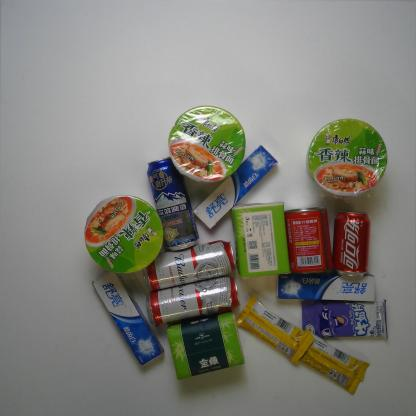Alcohol: (145, 156, 200, 253), (145, 275, 242, 325), (145, 239, 236, 291)
Candy: (298, 298, 389, 340)
Canned Food: (286, 207, 332, 273)
Chocolate: (234, 296, 314, 364), (290, 329, 370, 395)
Drink: (331, 210, 370, 279)
Instant Noodles: (305, 118, 387, 199), (83, 194, 163, 274), (168, 106, 246, 184)
Personal Hygiene: (191, 145, 278, 230), (91, 270, 164, 368), (275, 273, 378, 302)
Tissue: (166, 310, 244, 382), (230, 201, 290, 279)
